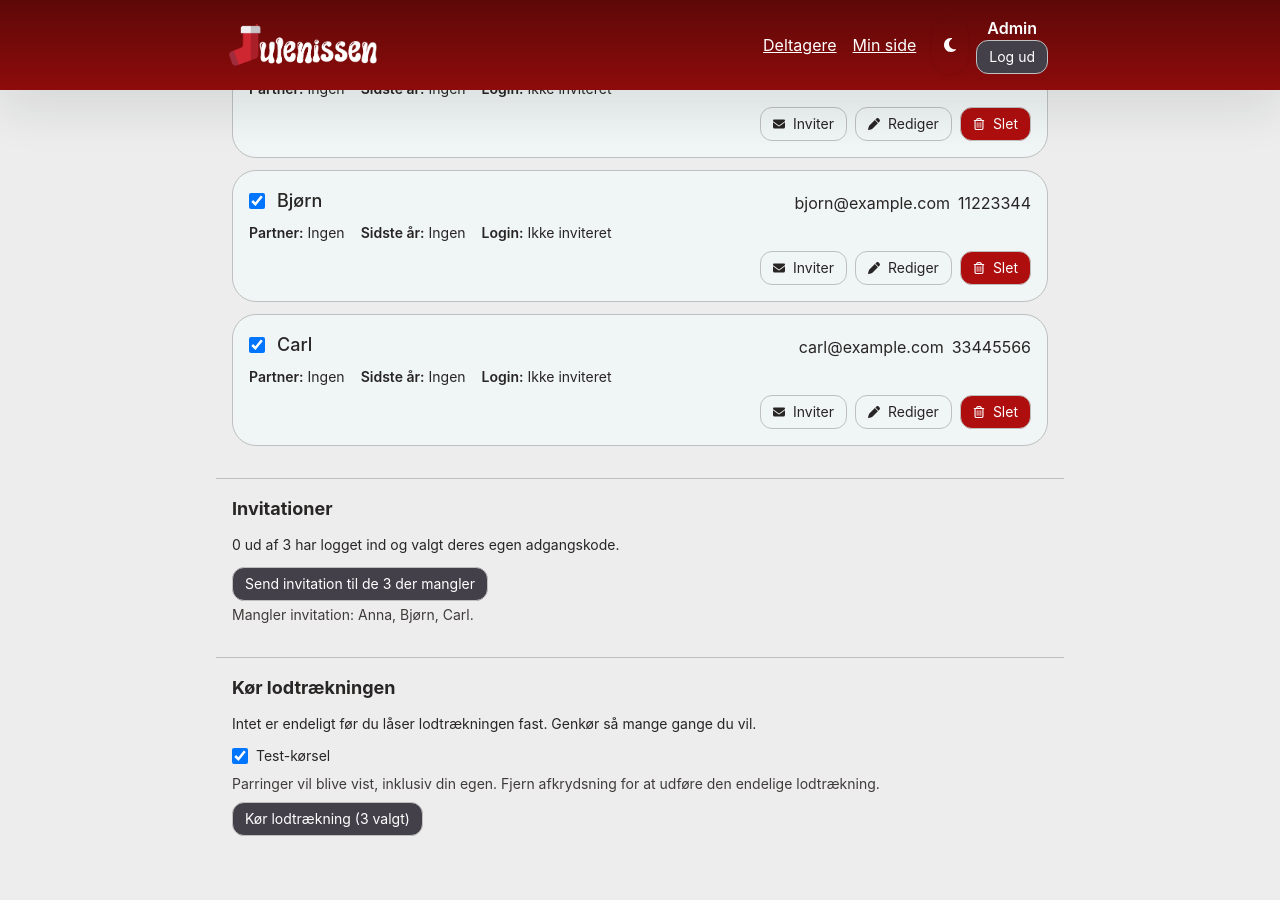
Test: running a match from the admin page › hides the pairings once the test-run box is unticked
(page scrolled)
Click the checkbox labelled "Test-kørsel". click: (240, 756)
box: [232,748,248,764]
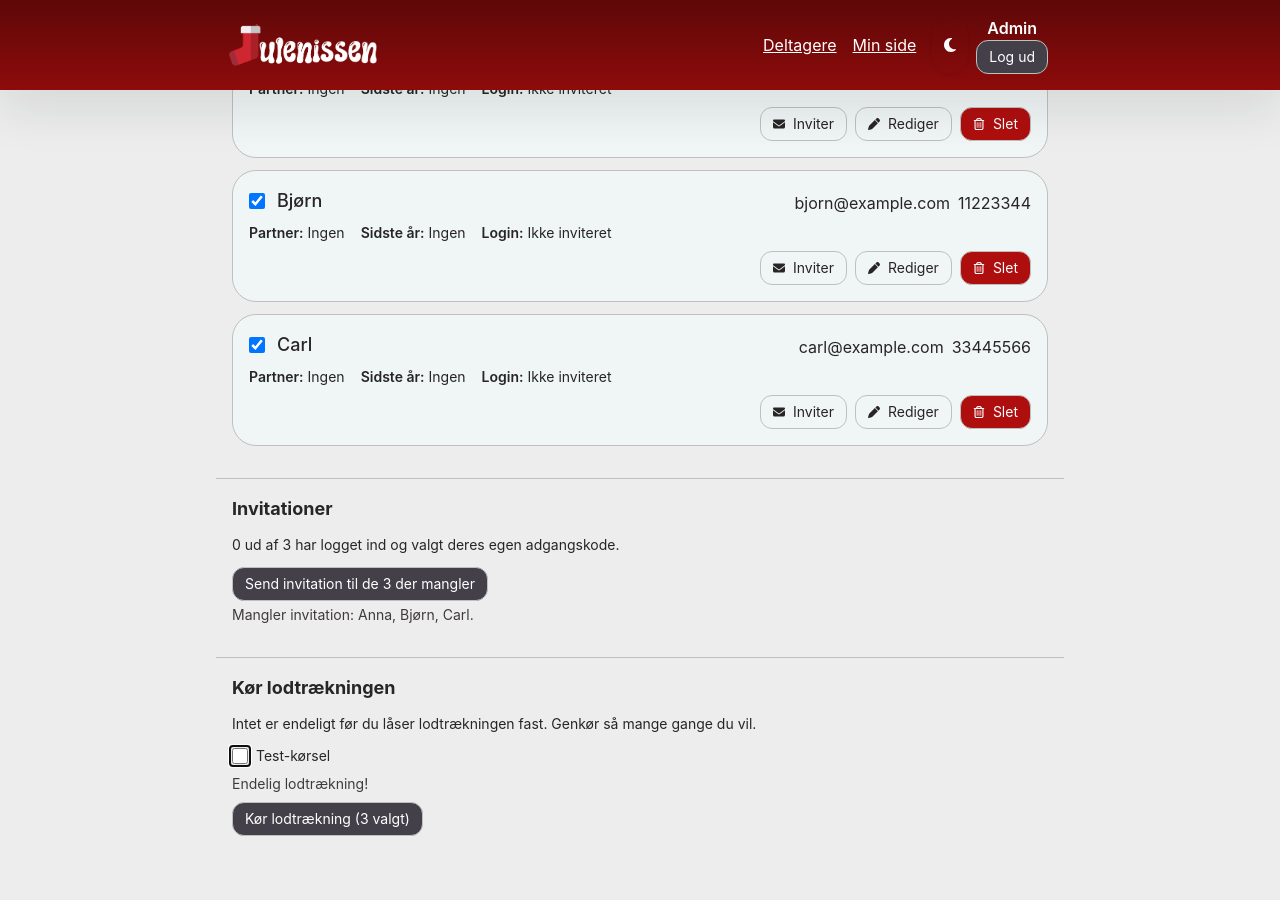
Click the button "Kør lodtrækning (3 valgt)". click: (327, 819)
box: [232,802,423,836]
(page scrolled)
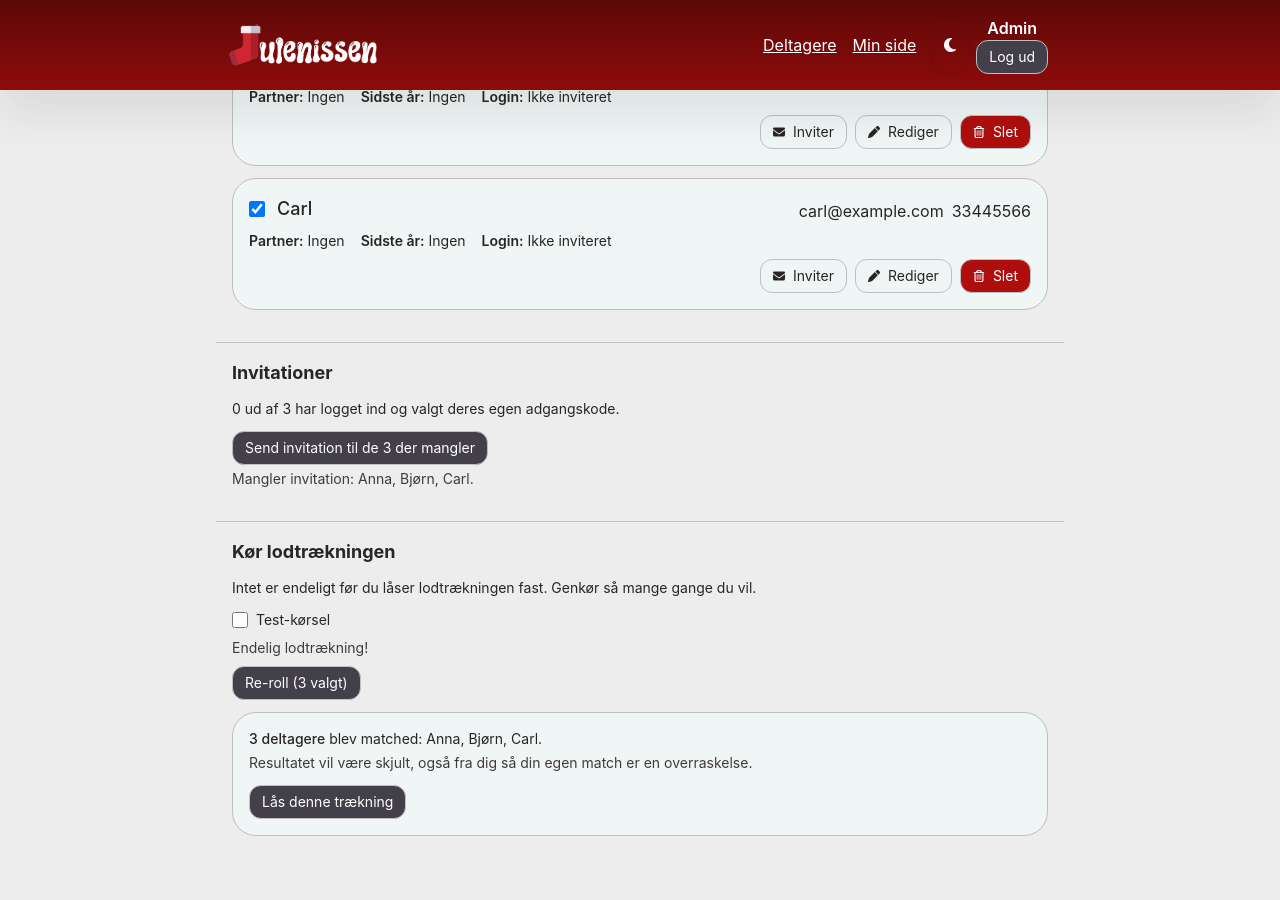
Expected: the text "3 deltagere" is shown, [249,730,325,747]
Expected: the text "3 deltagere blev matched: Anna, Bjørn, Carl." is shown, [249,730,542,747]
Expected: the text "Resultatet vil være skjult" is shown, [249,754,752,771]
